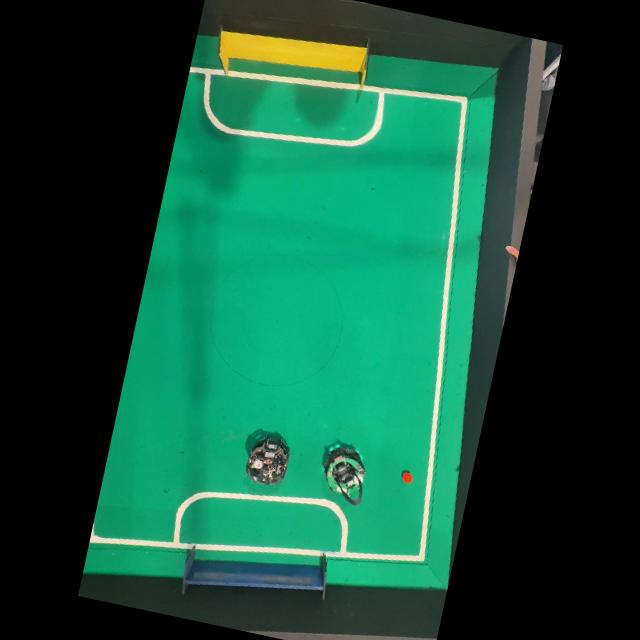ball: (402, 471, 412, 483)
goal: (218, 30, 367, 87), (181, 544, 326, 599)
robot: (324, 445, 365, 505), (245, 436, 289, 485)
